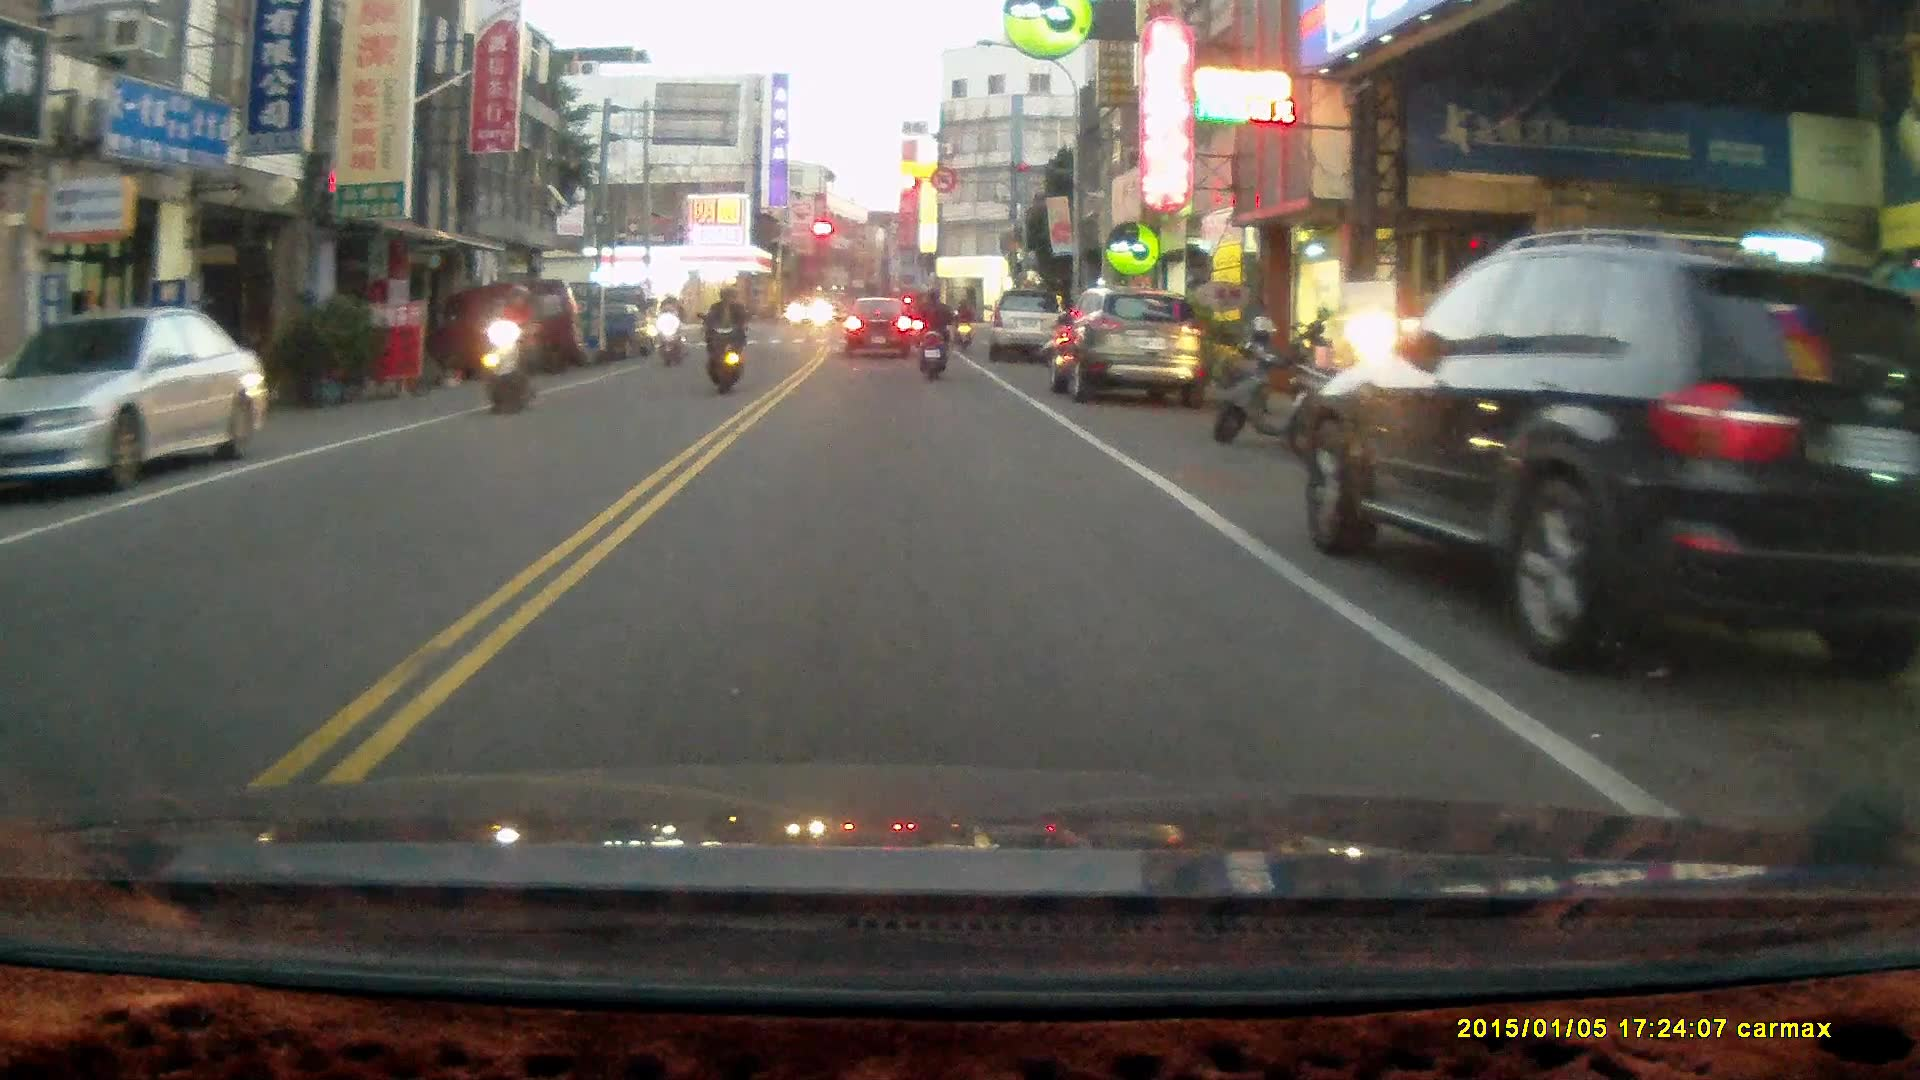rider: (483, 282, 540, 414), (701, 283, 744, 396), (911, 284, 952, 384), (654, 291, 686, 369), (953, 296, 974, 351)
vehicle: (1301, 230, 1920, 702), (1, 307, 281, 496), (1048, 286, 1203, 403), (425, 280, 590, 382), (993, 286, 1072, 363)
